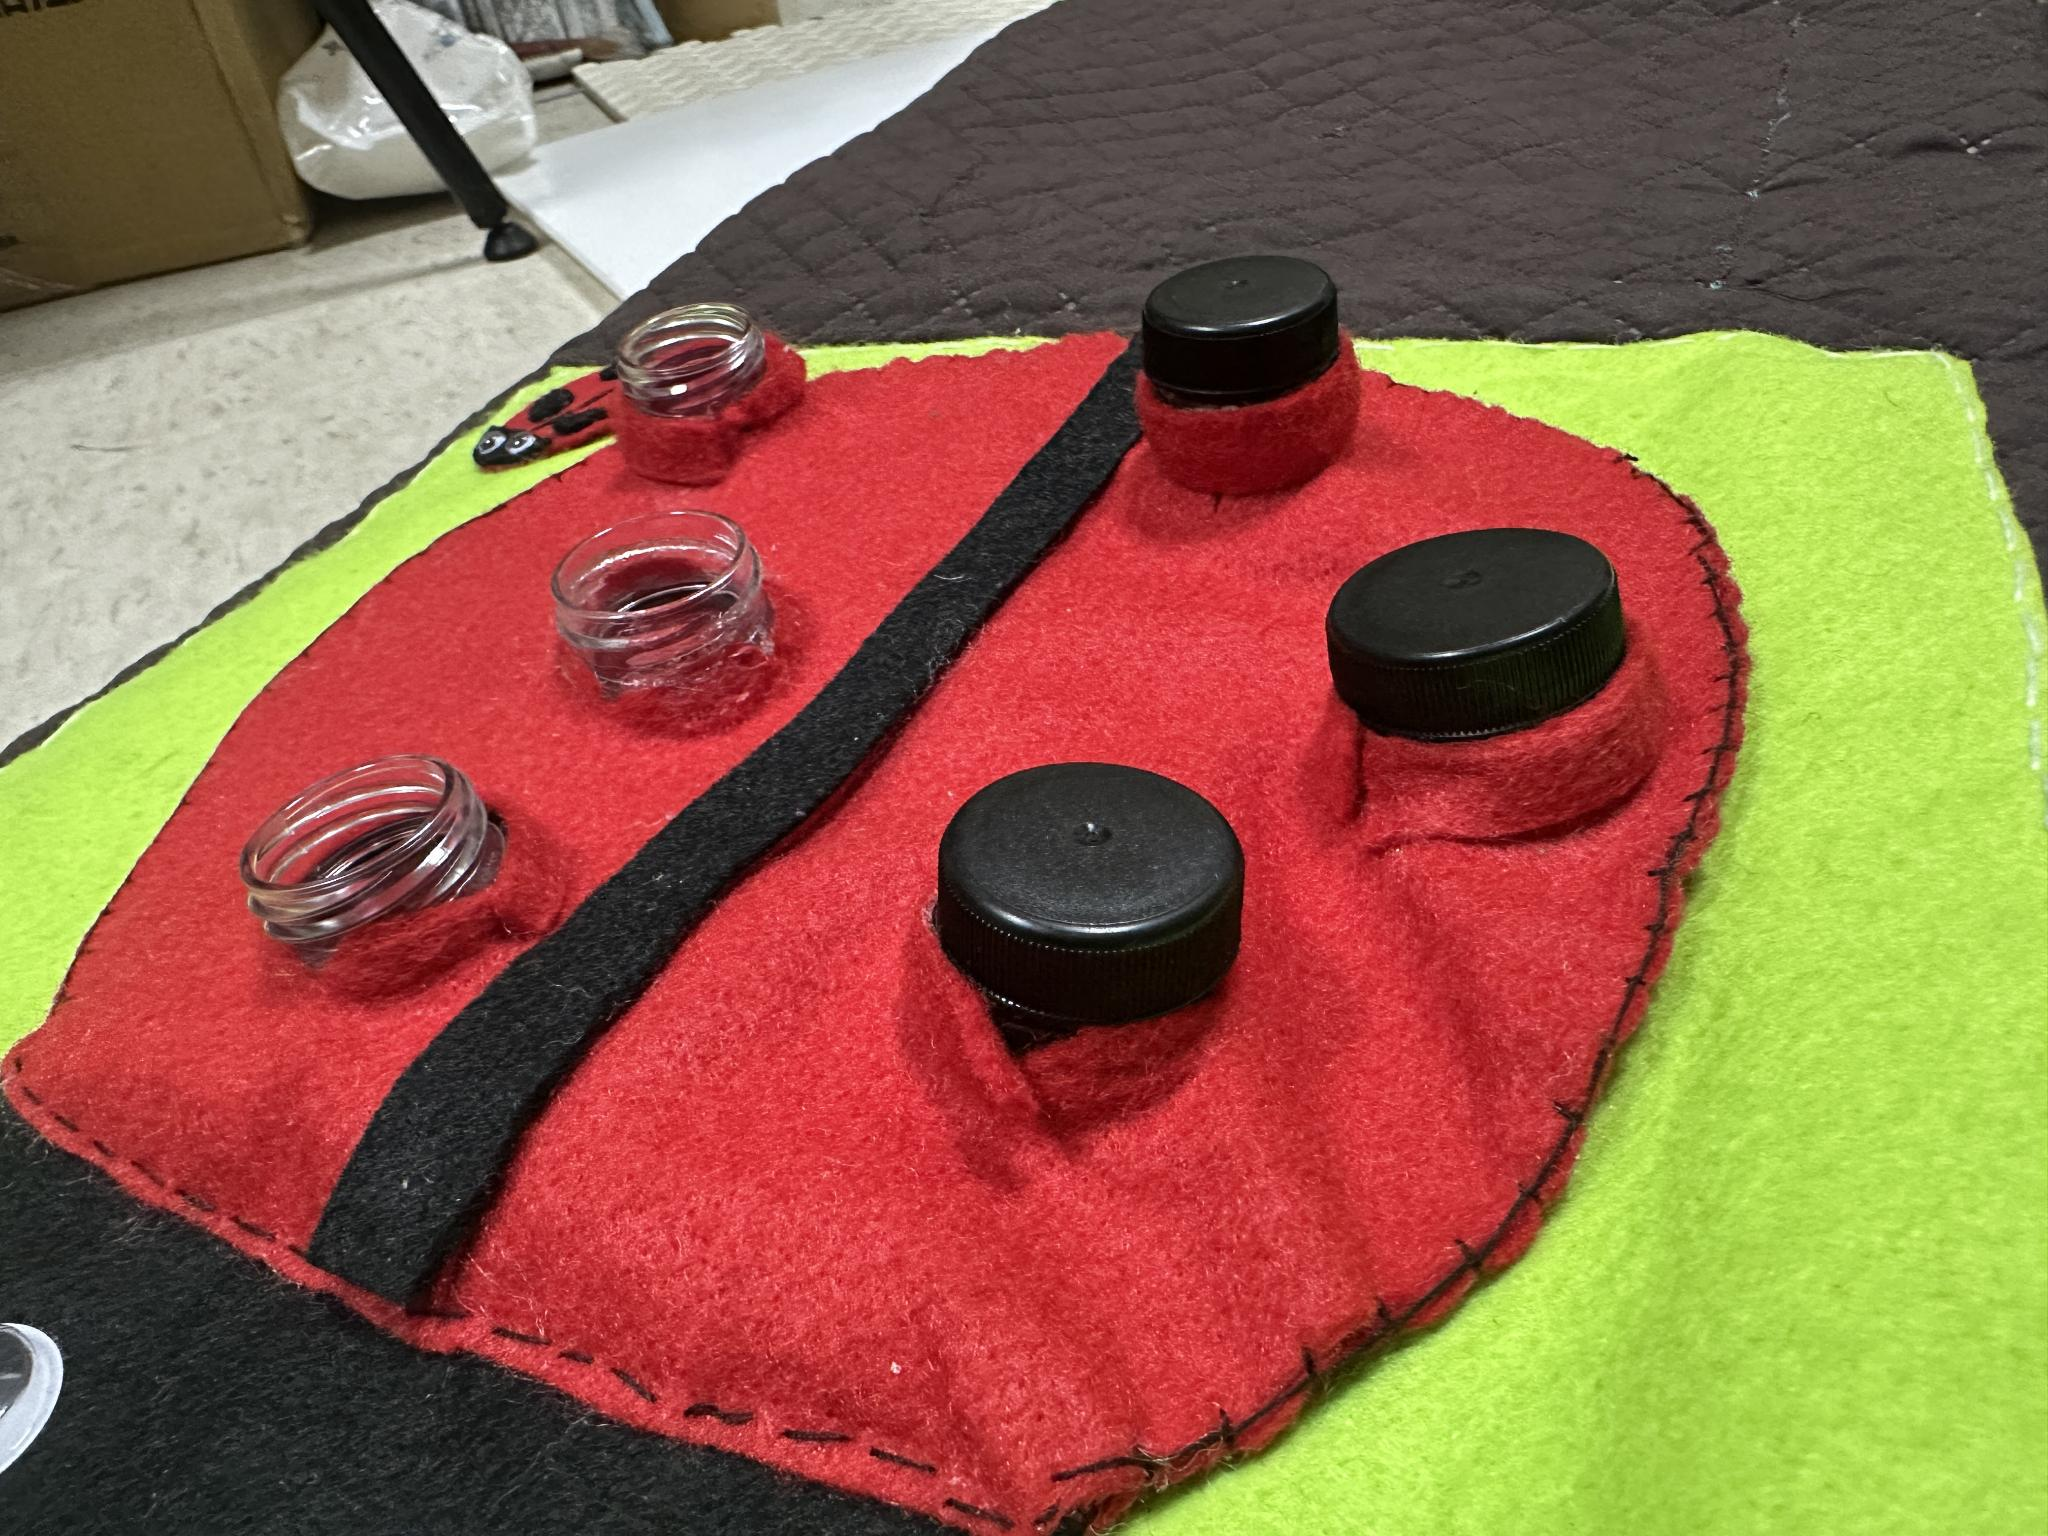cap_ok: (905, 734, 1276, 1102), (1306, 508, 1687, 847), (1121, 237, 1392, 515)
